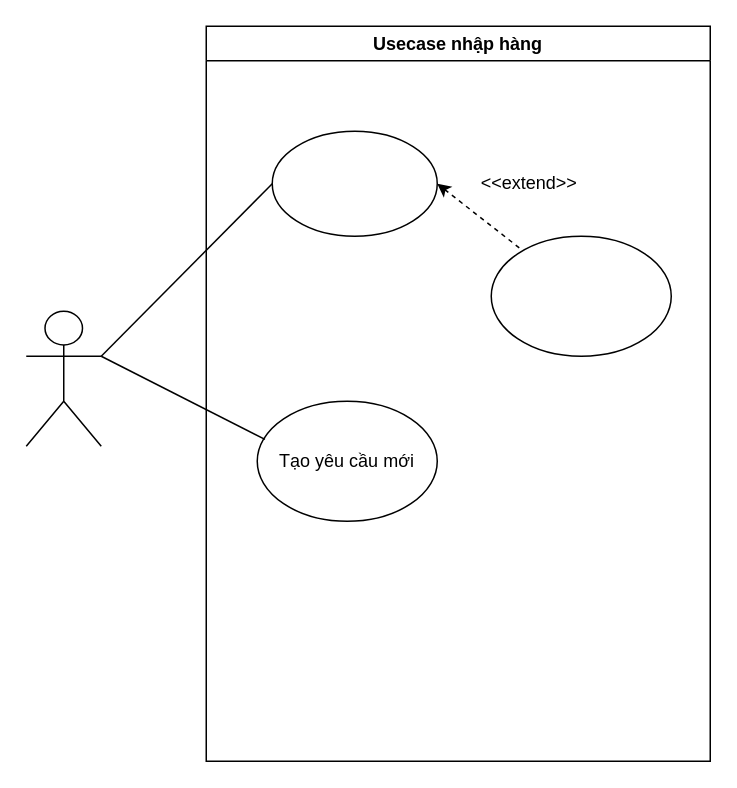
The diagram is 737 pixels wide and 788 high, and some of its shapes have lost their labels. Here are the shapes that lost their labels. From the top down, the centre of each, then its label:
At (x=354, y=183): "Xem các yêu cầu nhập hàng".
At (x=580, y=295): "Tạo phiếu nhập".
